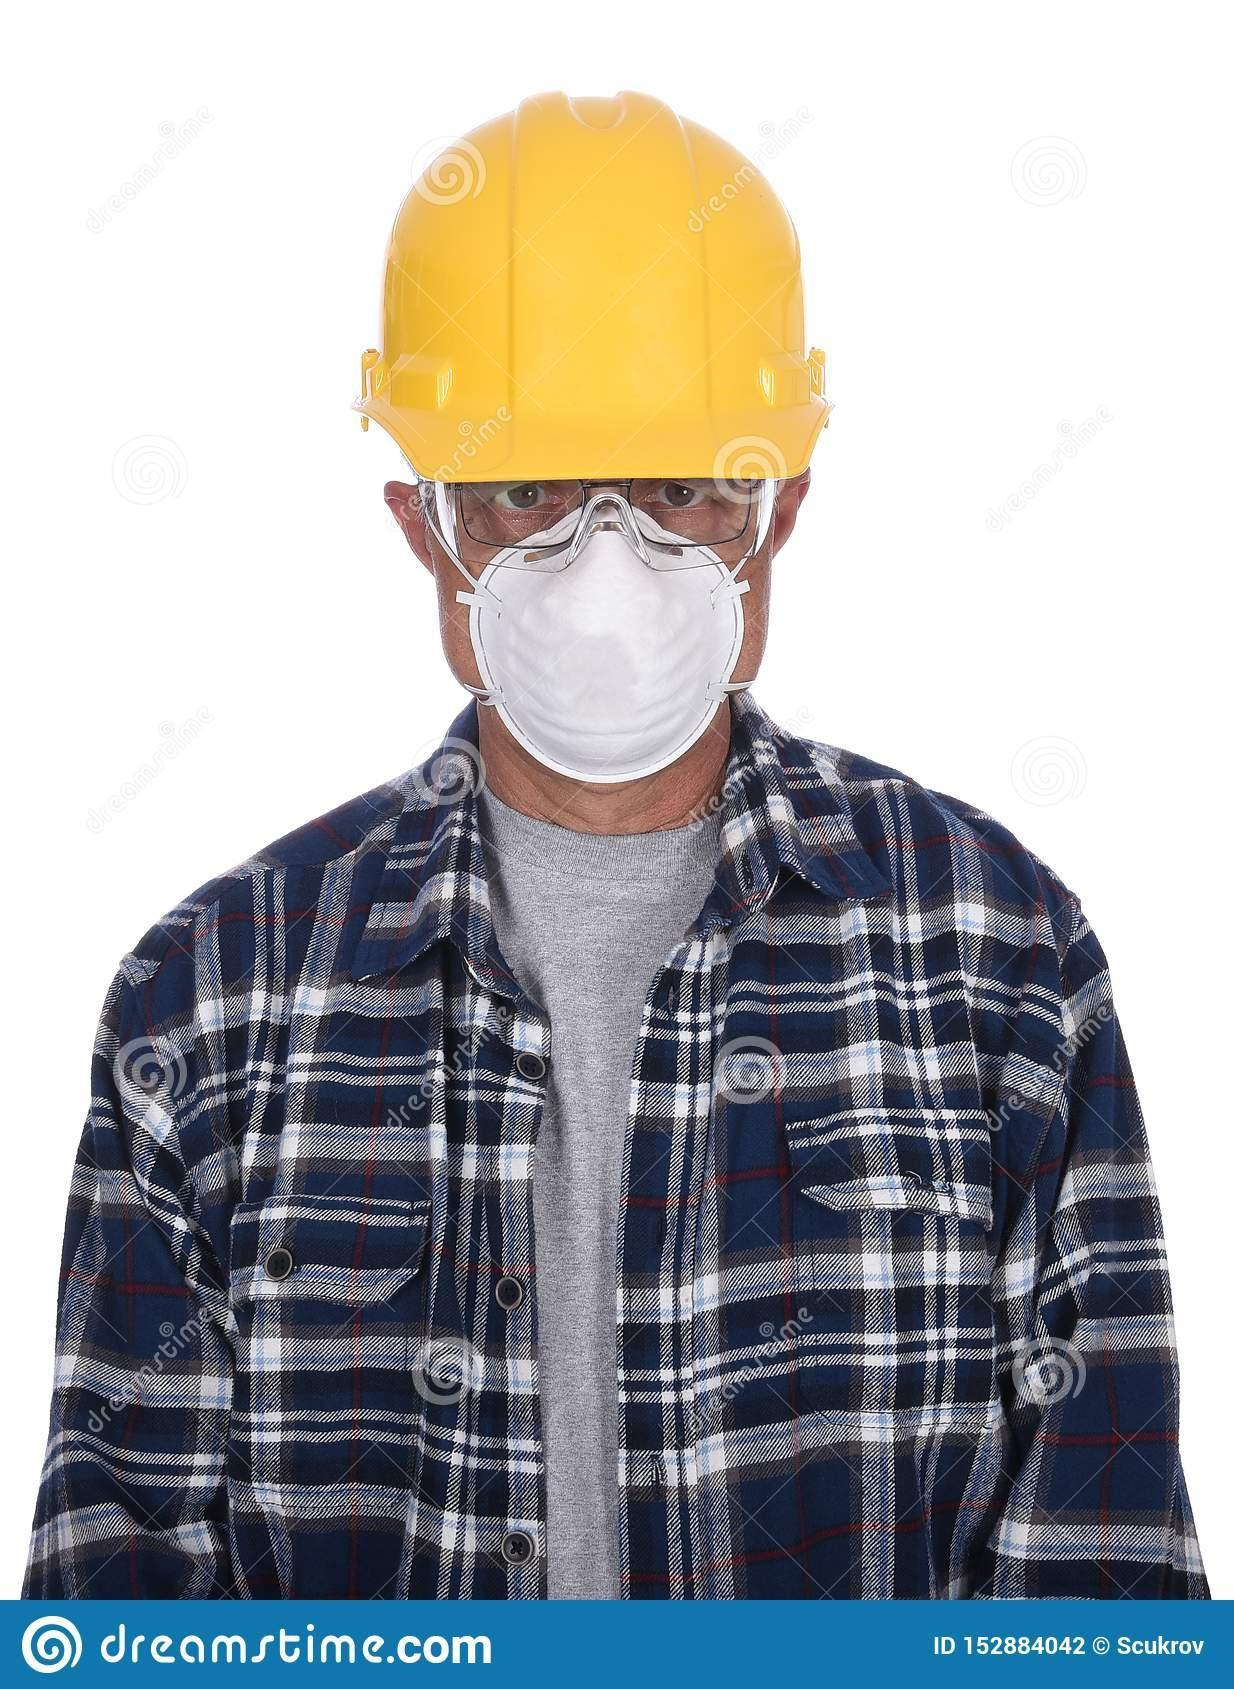hardhat: (368, 88, 842, 477)
worker: (21, 89, 1219, 1600)
